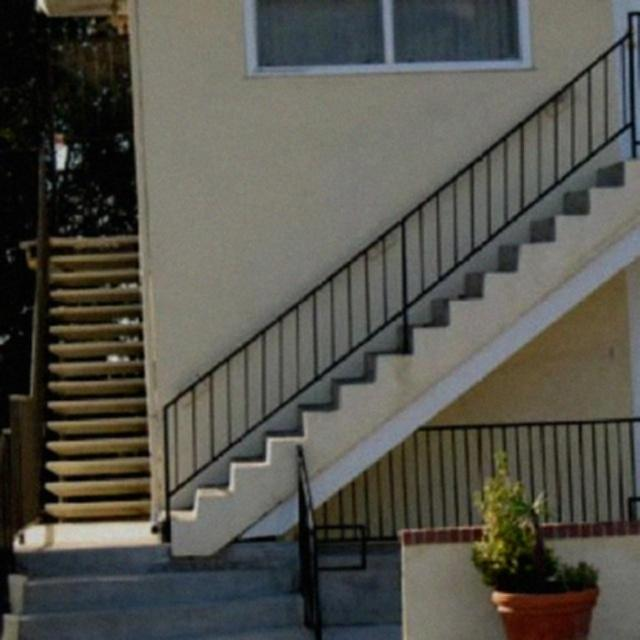stair: (138, 20, 638, 563), (5, 192, 161, 563)
